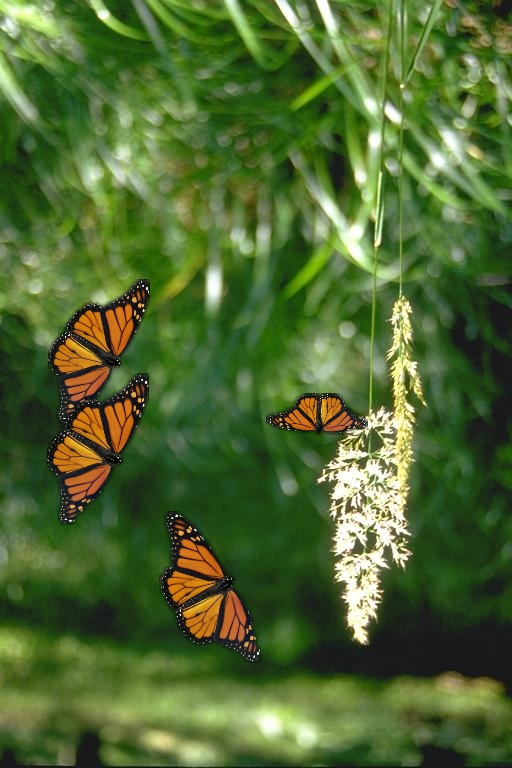danaus_plexippus: (159, 511, 261, 663), (47, 373, 149, 525), (48, 279, 150, 424), (266, 393, 368, 435)
